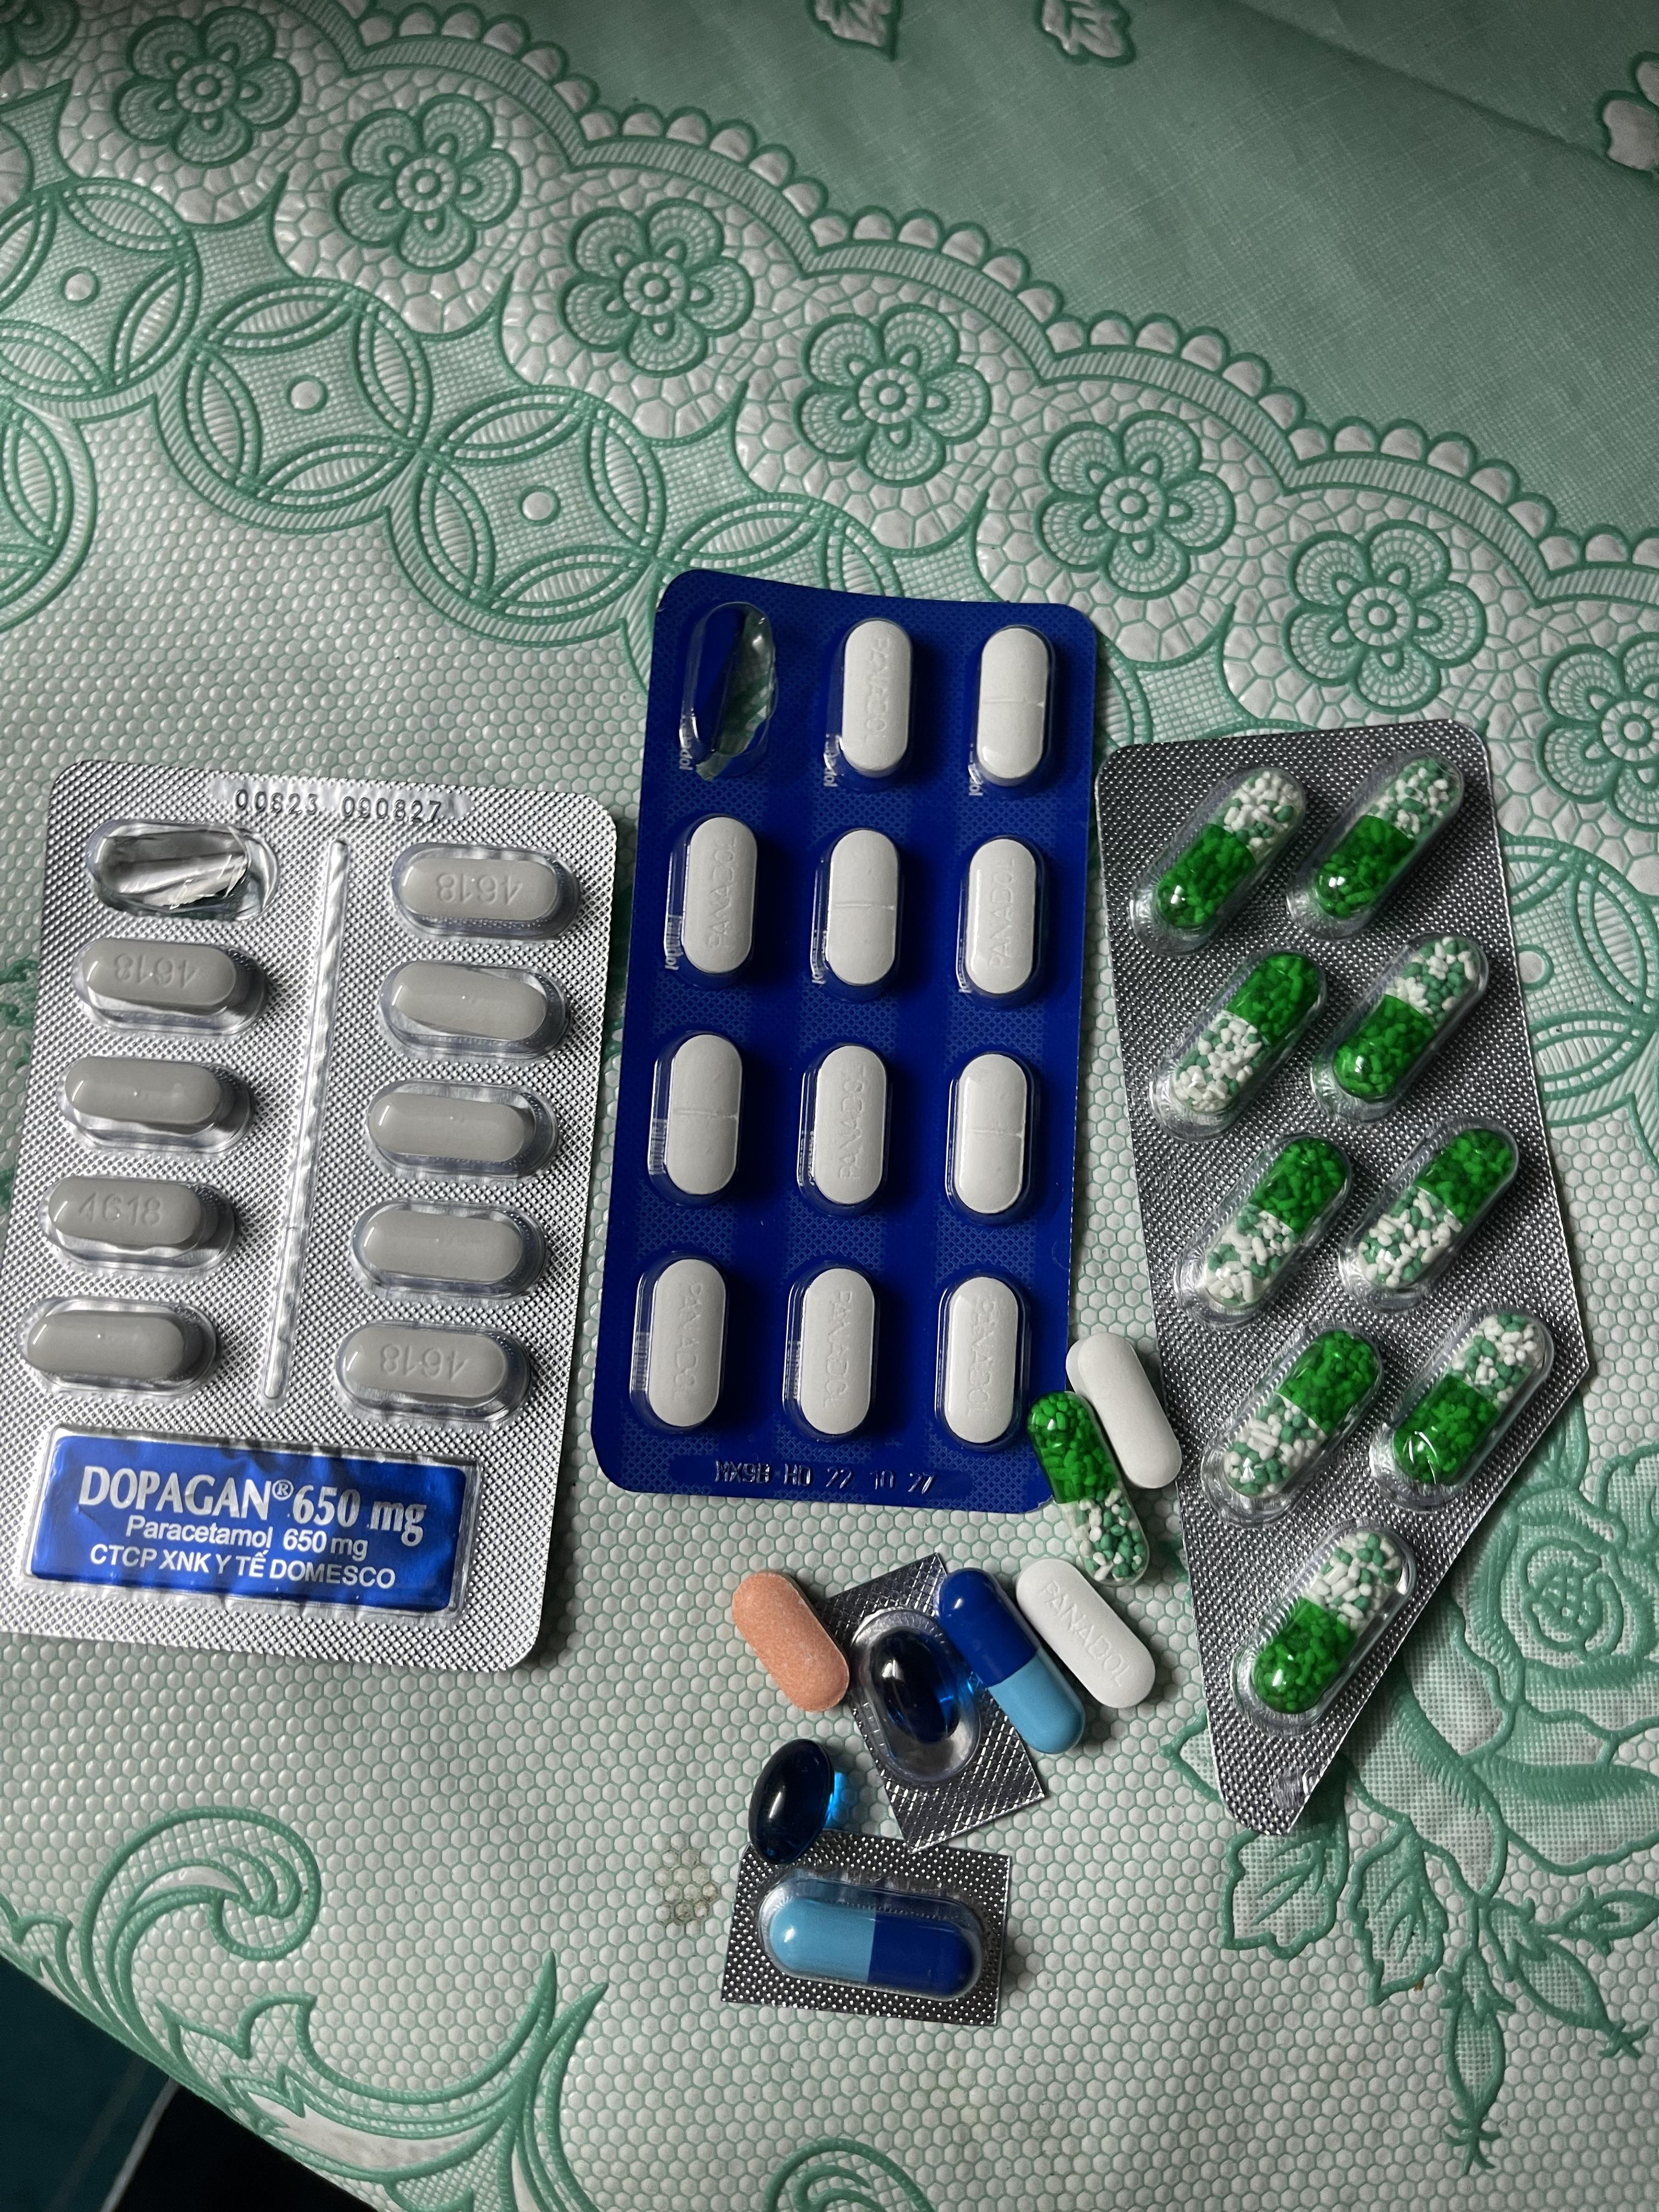Lincomyxin_500mg: (748, 1740, 838, 1869), (870, 1627, 957, 1745)
Loratadine_10mg: (730, 1575, 850, 1712)
Paracetamol_350mg: (1016, 1568, 1150, 1716), (648, 1029, 748, 1204), (636, 1258, 732, 1433), (946, 1050, 1039, 1226), (938, 1277, 1032, 1449), (798, 1043, 892, 1214), (812, 829, 908, 996), (958, 838, 1047, 1008), (795, 1268, 880, 1439), (974, 627, 1054, 789), (835, 620, 915, 780), (680, 817, 760, 977)
Paracetamol_500mg: (331, 1320, 528, 1426), (17, 1296, 220, 1393), (38, 1174, 235, 1273), (350, 1198, 540, 1301), (378, 958, 565, 1062), (71, 937, 267, 1036), (58, 1054, 253, 1153), (364, 1080, 552, 1179), (390, 843, 575, 941), (1070, 1336, 1182, 1486)
Paracetamol_650mg: (1239, 1531, 1410, 1716), (1190, 1141, 1351, 1318), (1351, 1129, 1518, 1296), (1389, 1313, 1547, 1486), (1173, 956, 1326, 1134), (1227, 1332, 1380, 1508), (1328, 944, 1486, 1109), (1147, 770, 1298, 935), (1312, 758, 1464, 916), (1028, 1400, 1147, 1573)
pill: (756, 1872, 992, 1998), (945, 1575, 1086, 1756)
